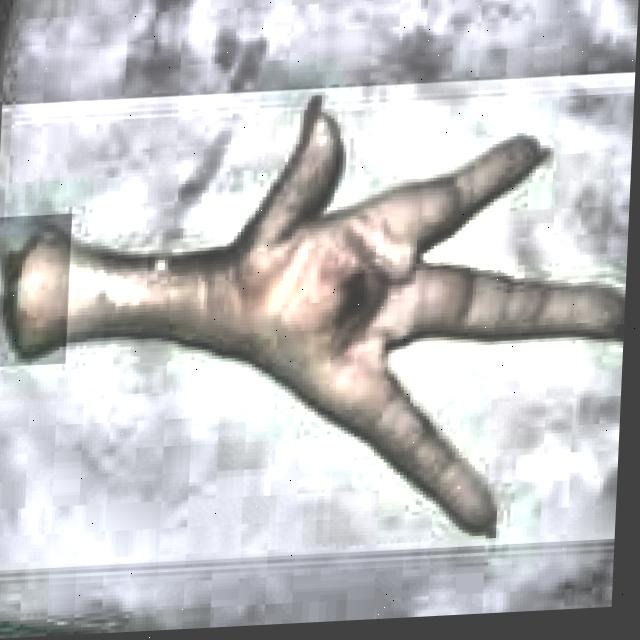Bumble foot: (307, 271, 396, 349)
